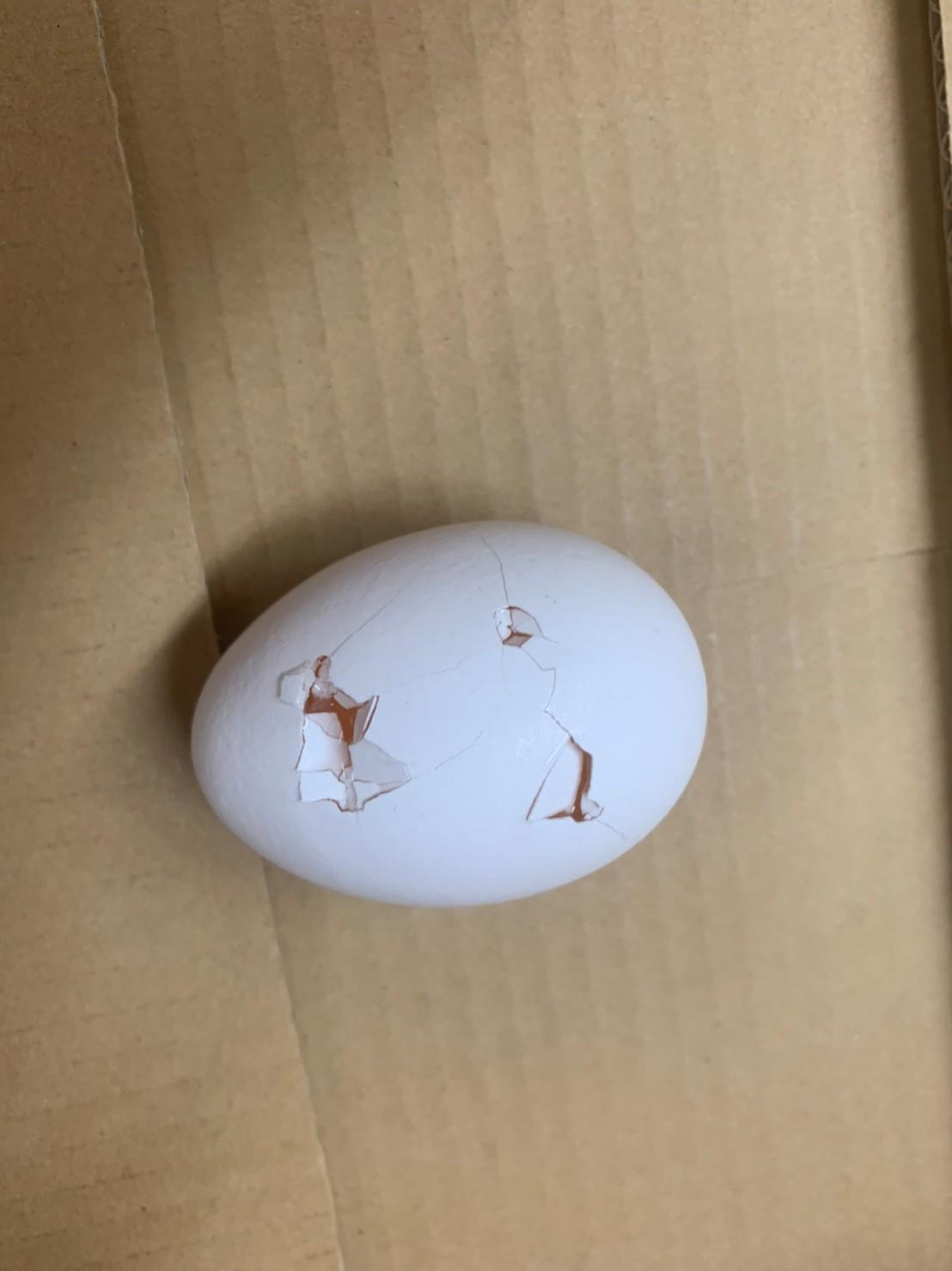egg: (186, 525, 714, 916)
